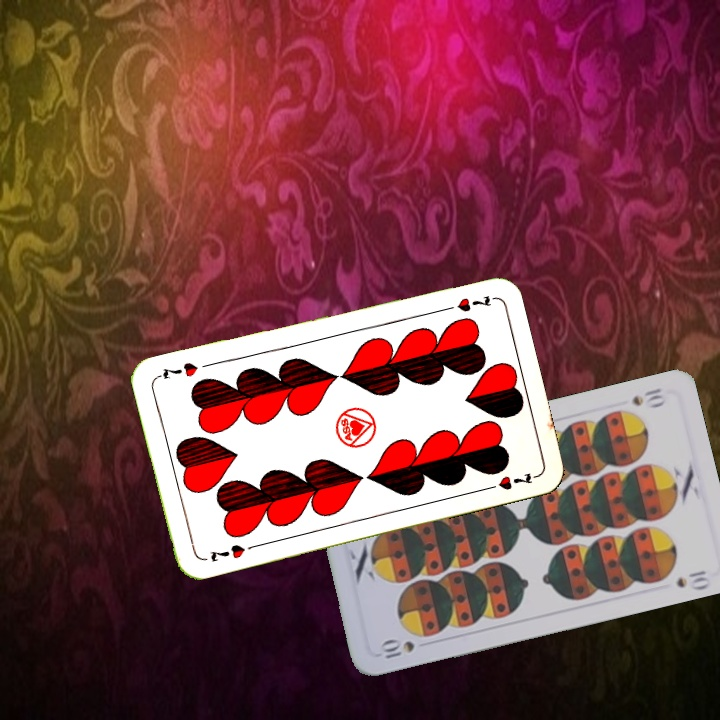H7: (437, 291, 496, 315), (206, 540, 248, 565)
S10: (376, 636, 417, 662), (628, 384, 669, 410)
